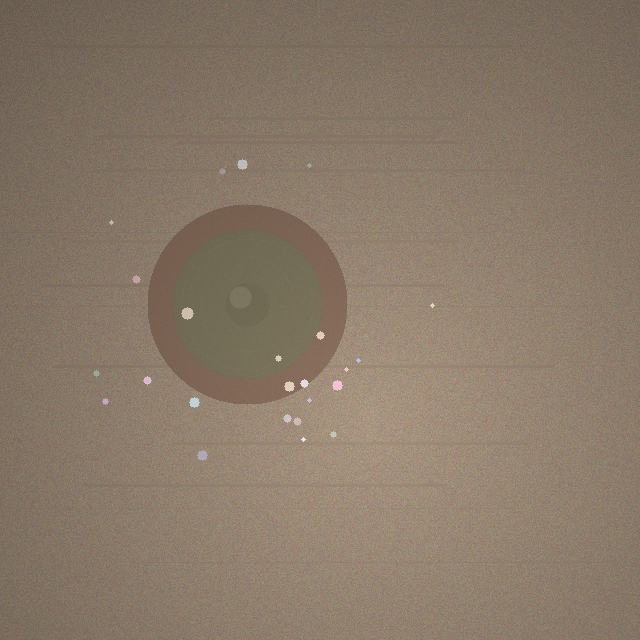overburn: (147, 204, 347, 404)
